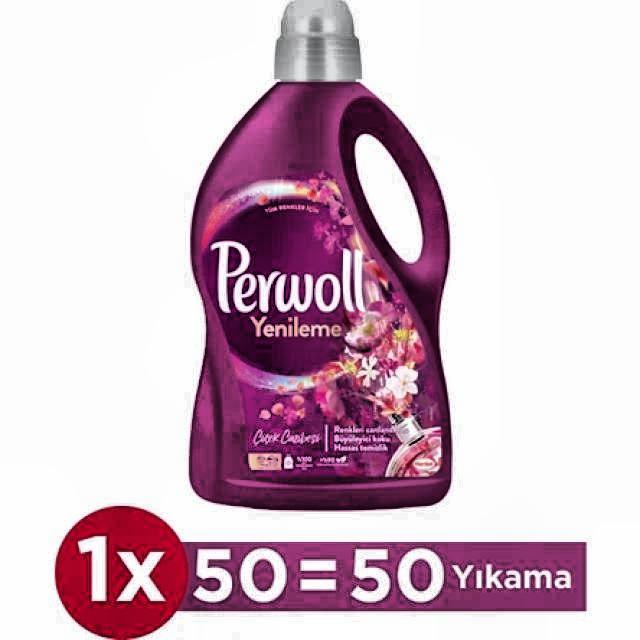plastic: (188, 0, 454, 513)
